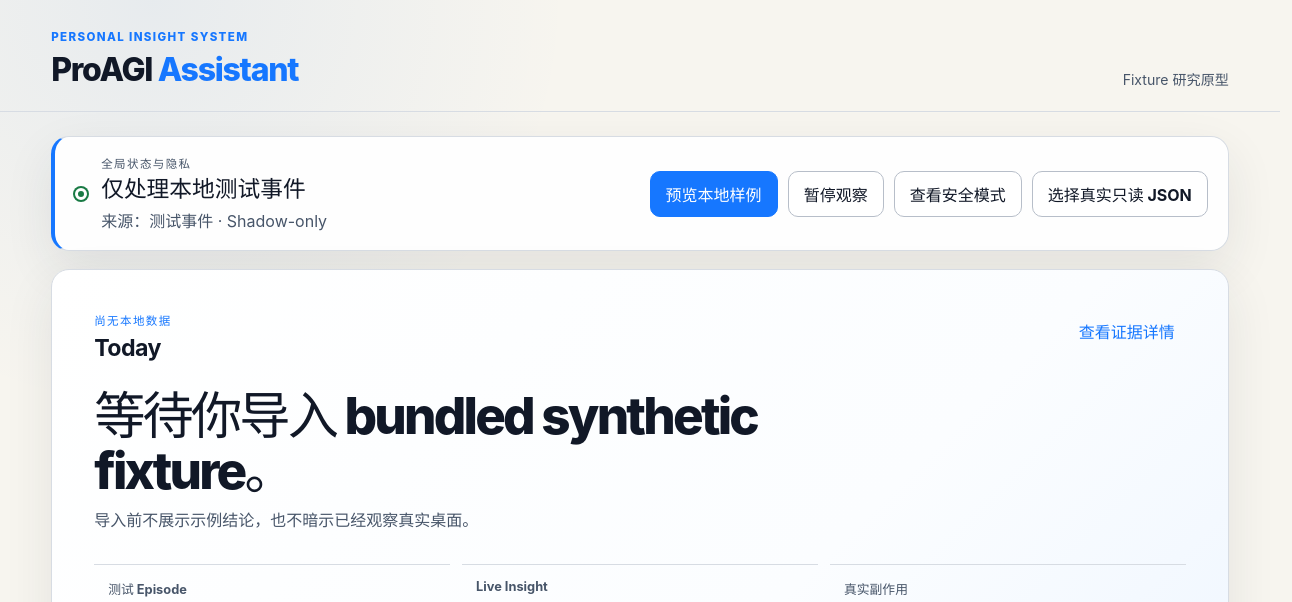
it: runnable Insight Loop UI › opens mandatory recovery after an indeterminate fixture commit failure
Click the button "预览本地样例".
click(714, 194)  # box [650,170,778,216]
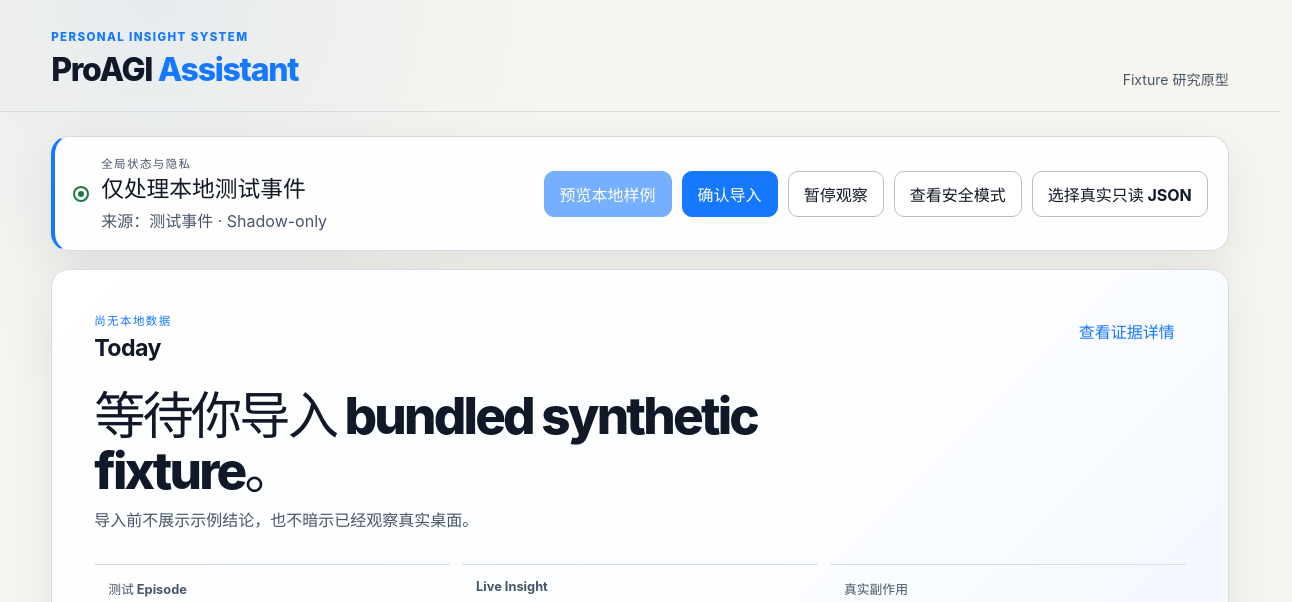
Check: the button "确认导入" is shown
Click the button "确认导入".
click(730, 194)  # box [682,170,778,216]
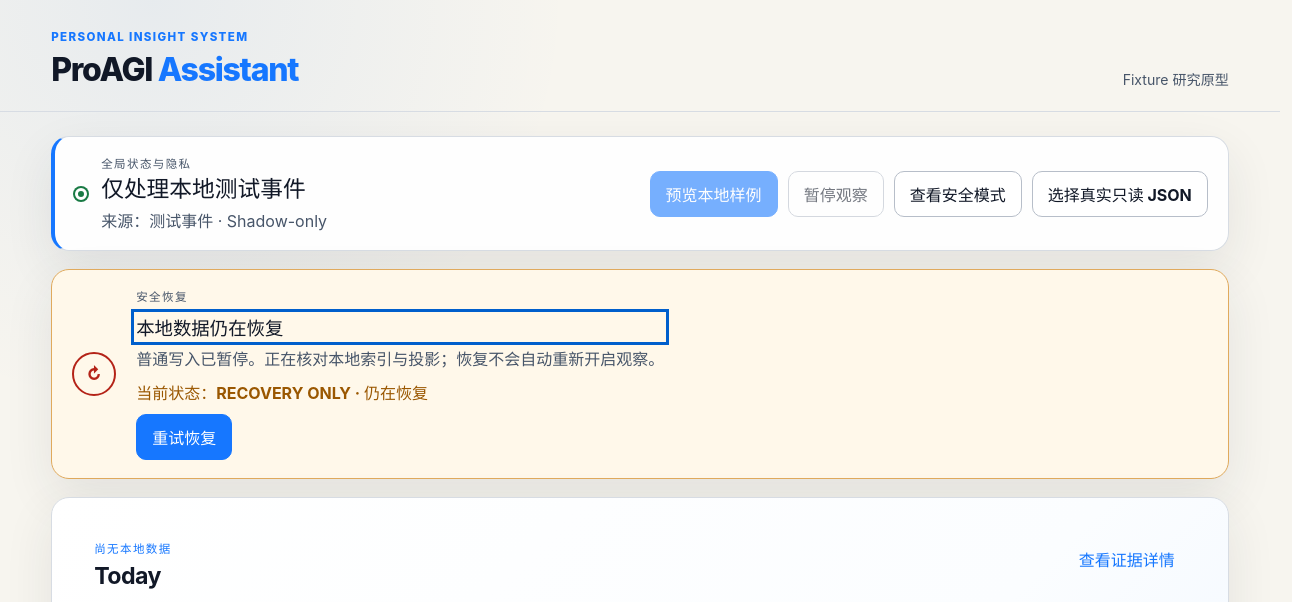
Check: the button "预览本地样例" is disabled, box [650,170,778,216]
Check: the heading "本地数据仍在恢复" is shown, box [136,317,283,339]
Check: the button "暂停观察" is disabled, box [788,170,884,216]
